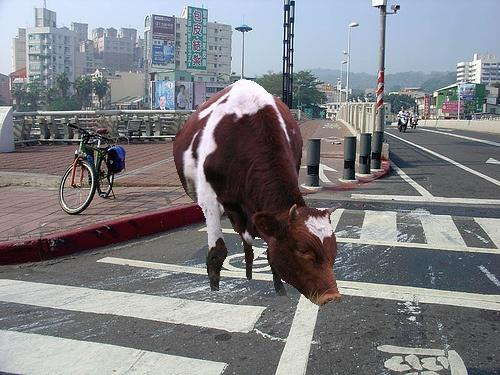tampered: (174, 80, 342, 306)
